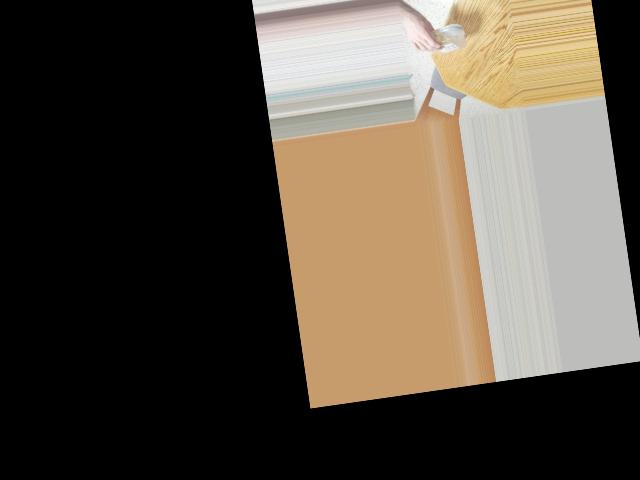cheese: (416, 19, 461, 59)
